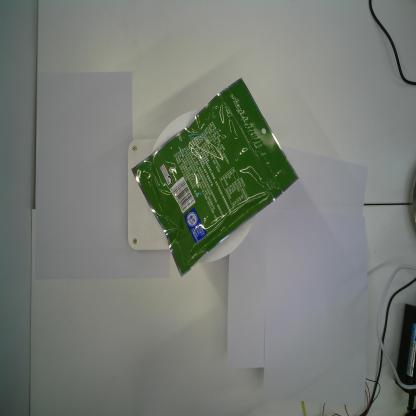Dried Fruit: (130, 76, 300, 280)
